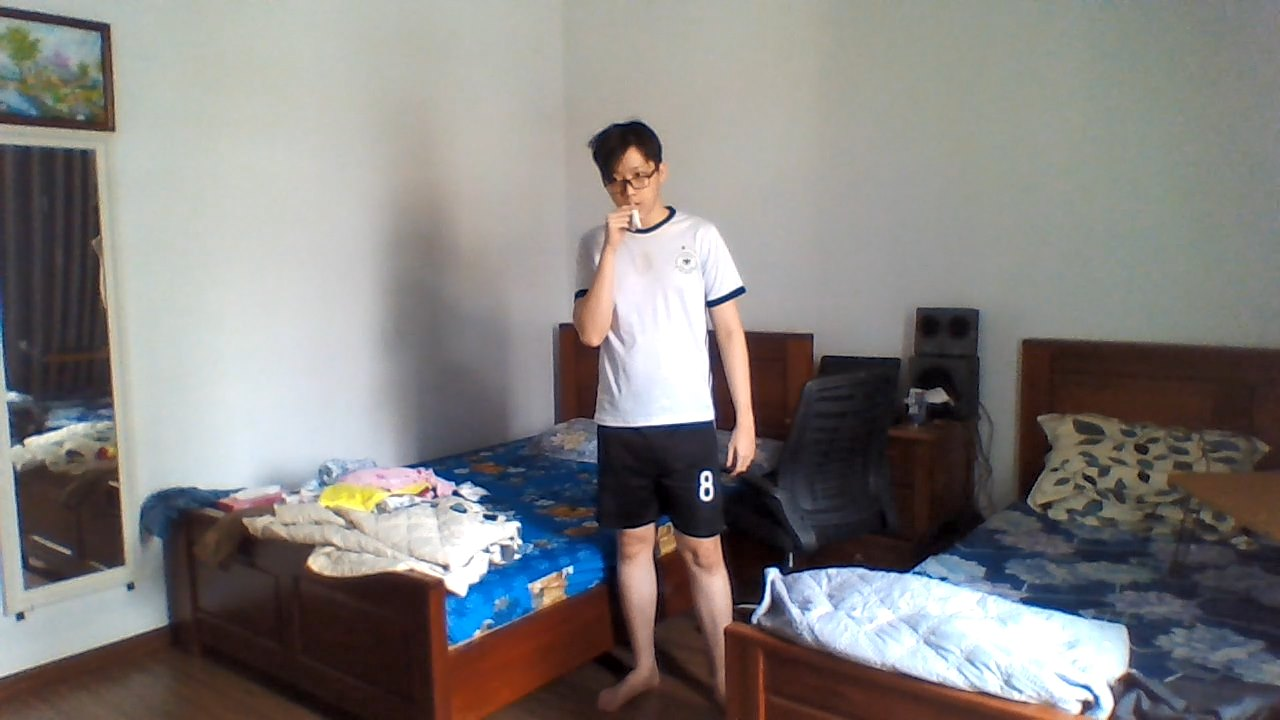cigarette: (629, 208, 644, 232)
person: (552, 115, 759, 630)
